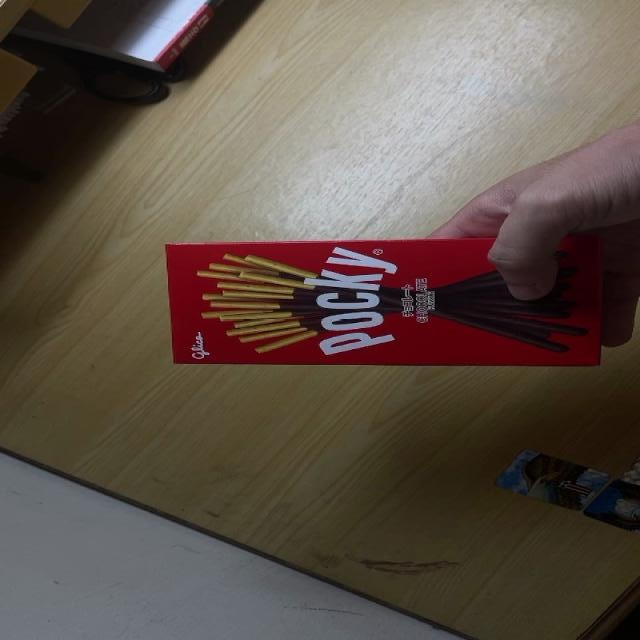Pocky: (165, 236, 604, 369)
